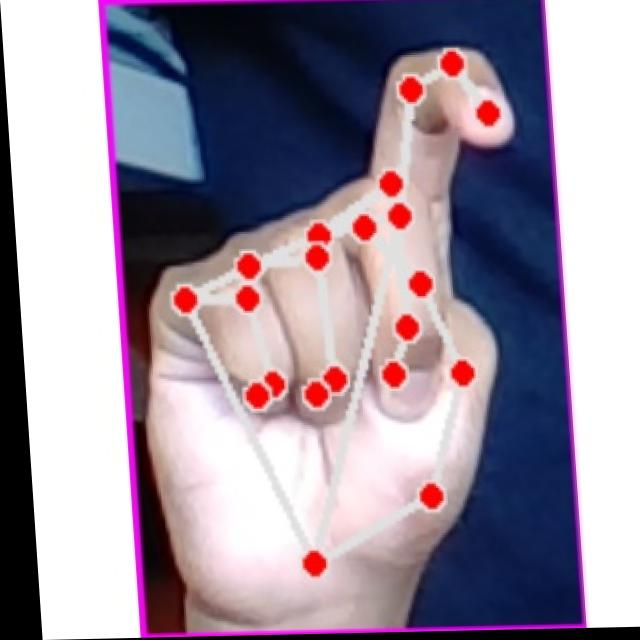Z: (121, 41, 555, 605)
